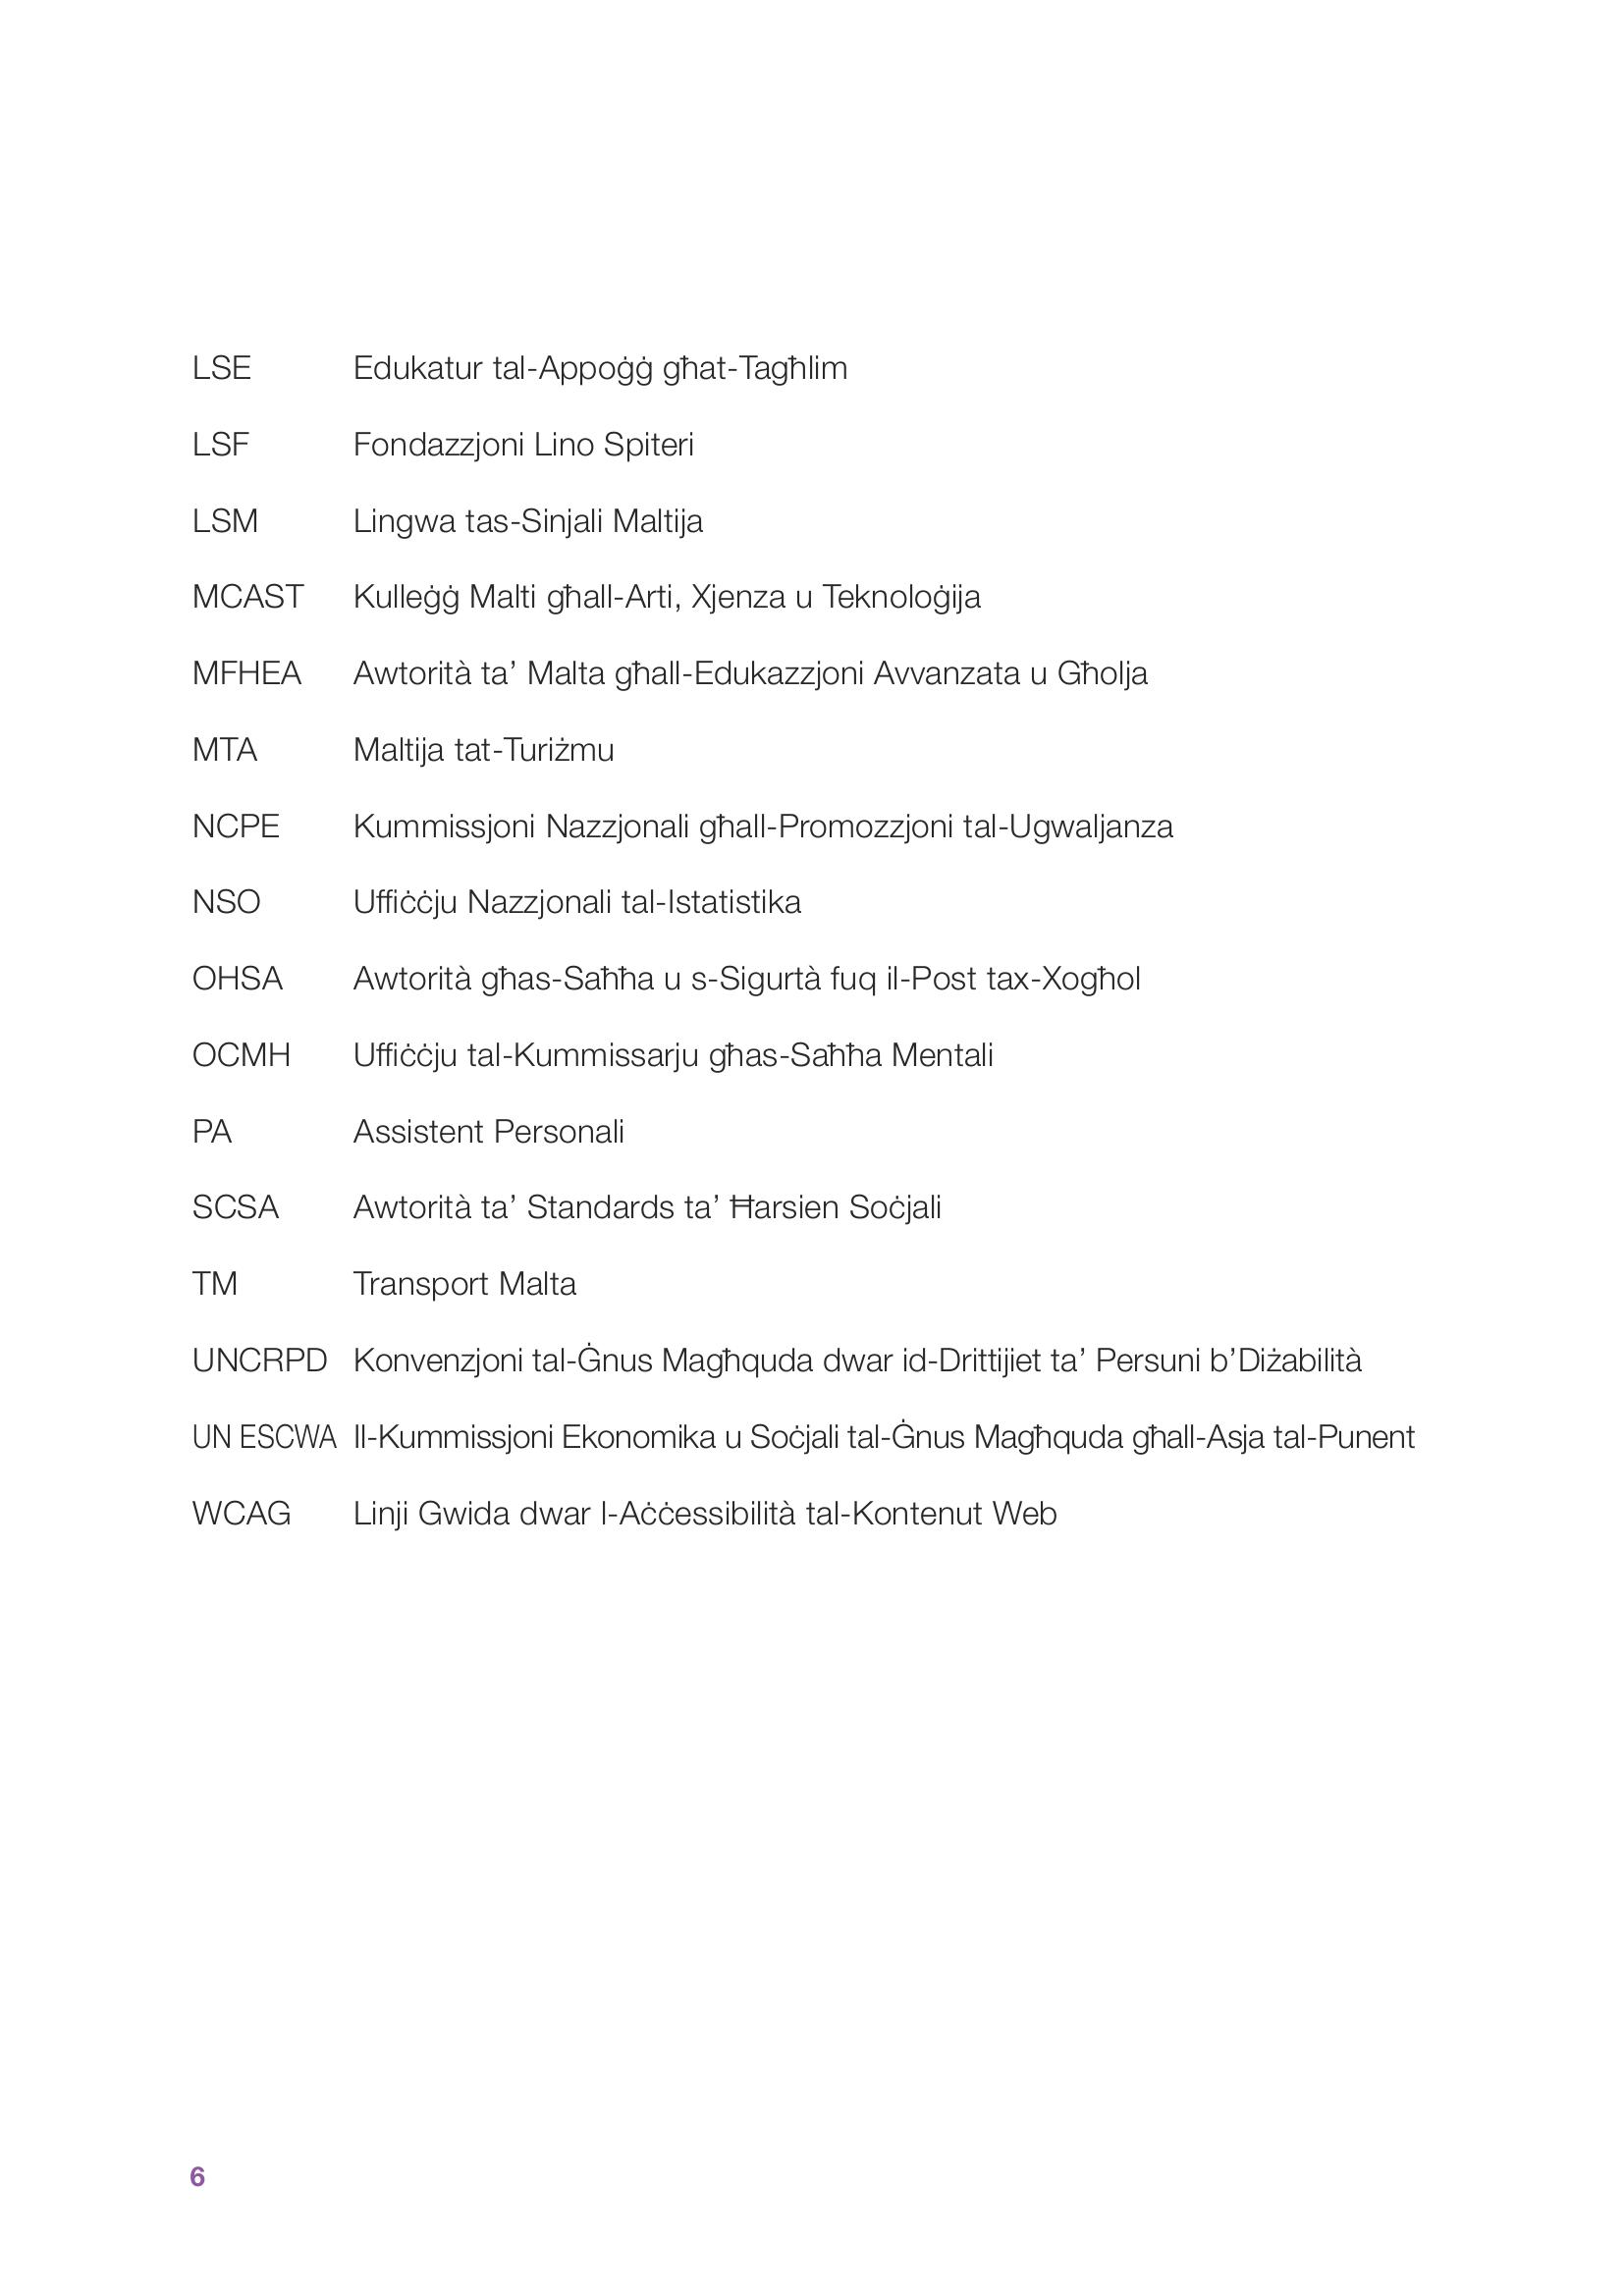text: (148, 329, 1480, 1583)
